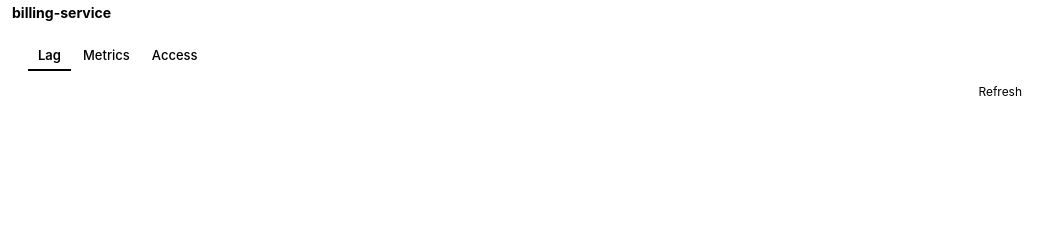
Test case: ConsumerGroupDetailPanel › shows a dash for unknown current offset and lag
Click the button "Refresh": (1000, 92) x1=964 y1=78 x2=1036 y2=105
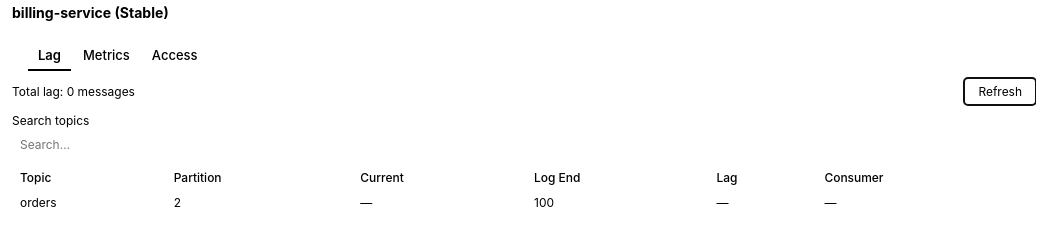
Expected: the cells read "orders", "2", "—", "100", "—", "—", in this order, x1=12 y1=190 x2=166 y2=215; x1=166 y1=190 x2=352 y2=215; x1=352 y1=190 x2=526 y2=215; x1=526 y1=190 x2=708 y2=215; x1=708 y1=190 x2=816 y2=215; x1=816 y1=190 x2=1036 y2=215
